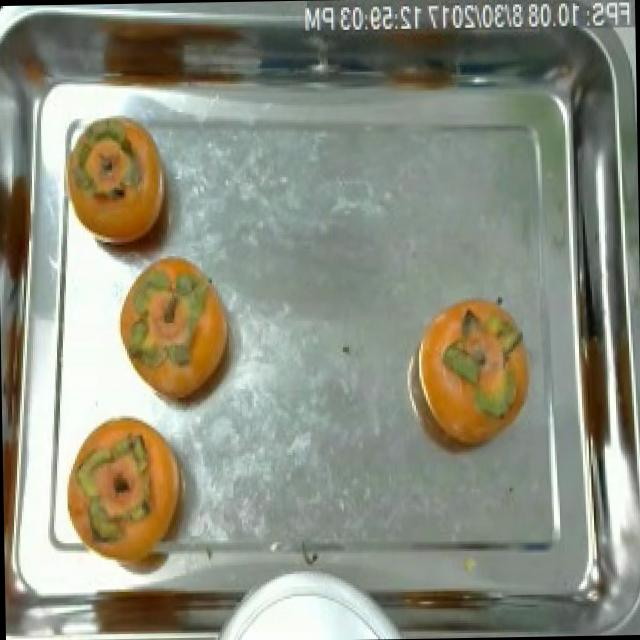Fruit: (58, 400, 202, 598), (109, 242, 244, 425), (409, 290, 538, 462), (64, 102, 185, 275)
